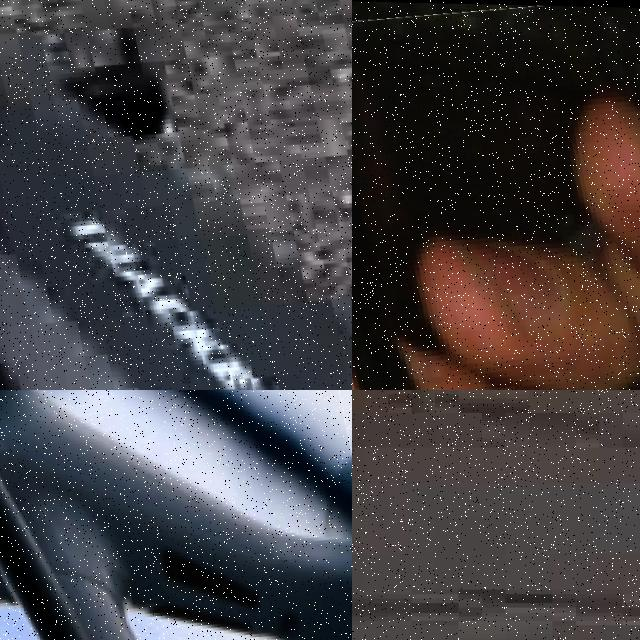0: (0, 0, 352, 390)
drone: (352, 0, 640, 390), (0, 390, 352, 640)
